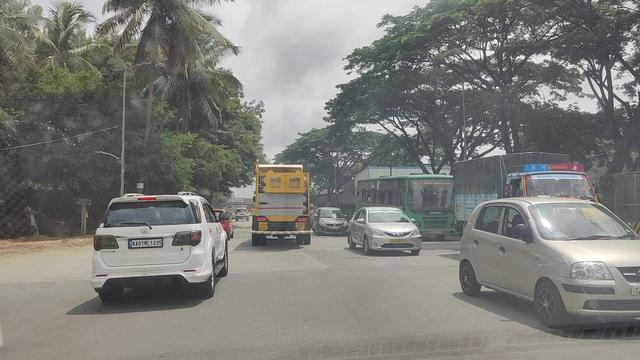HMV: (251, 163, 311, 242)
LMV: (91, 195, 228, 295)
RoadDamages: (244, 254, 331, 278)
